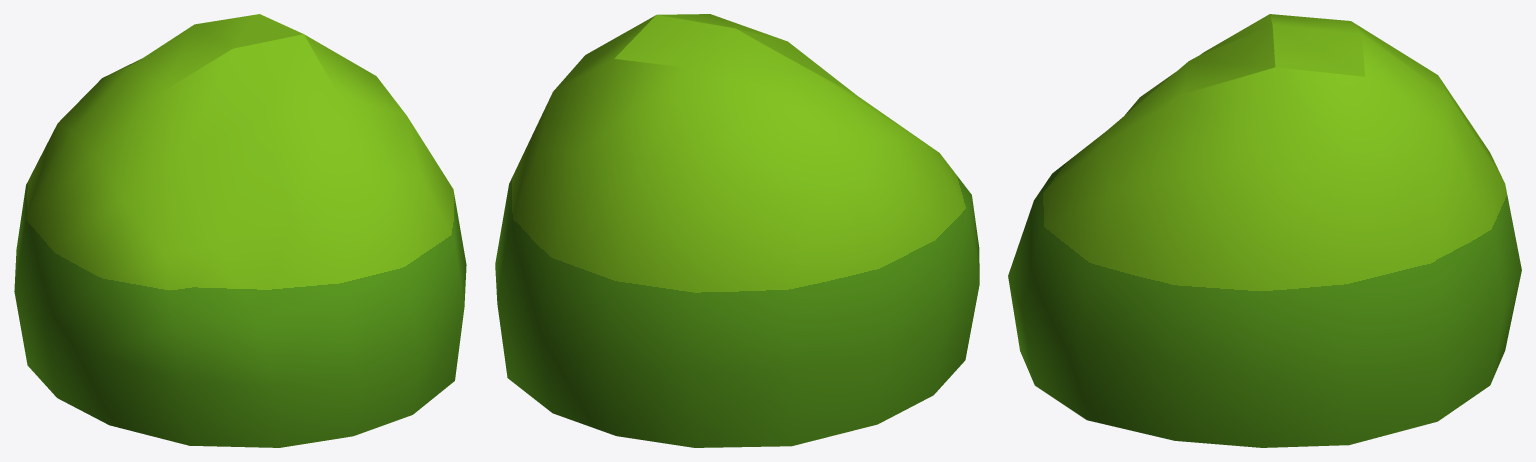
Rendered from Bush2.fbx.
The picture shows the model from 3 angles, left to right: view 1: azimuth 30°, elevation 25°; view 2: azimuth 150°, elevation 25°; view 3: azimuth 270°, elevation 25°; orthographic projection. The views are drawn at different scales.
Visible parts, largest first — view 1: Roundcube.003; view 2: Roundcube.003; view 3: Roundcube.003.
Part boxes in pixels (left/top/right/bottom): Roundcube.003: left=14, top=14, right=466, bottom=447; Roundcube.003: left=495, top=14, right=979, bottom=447; Roundcube.003: left=1008, top=14, right=1521, bottom=447.
Bounding box in the file's own units: 60.39 × 44.91 × 63.76.
